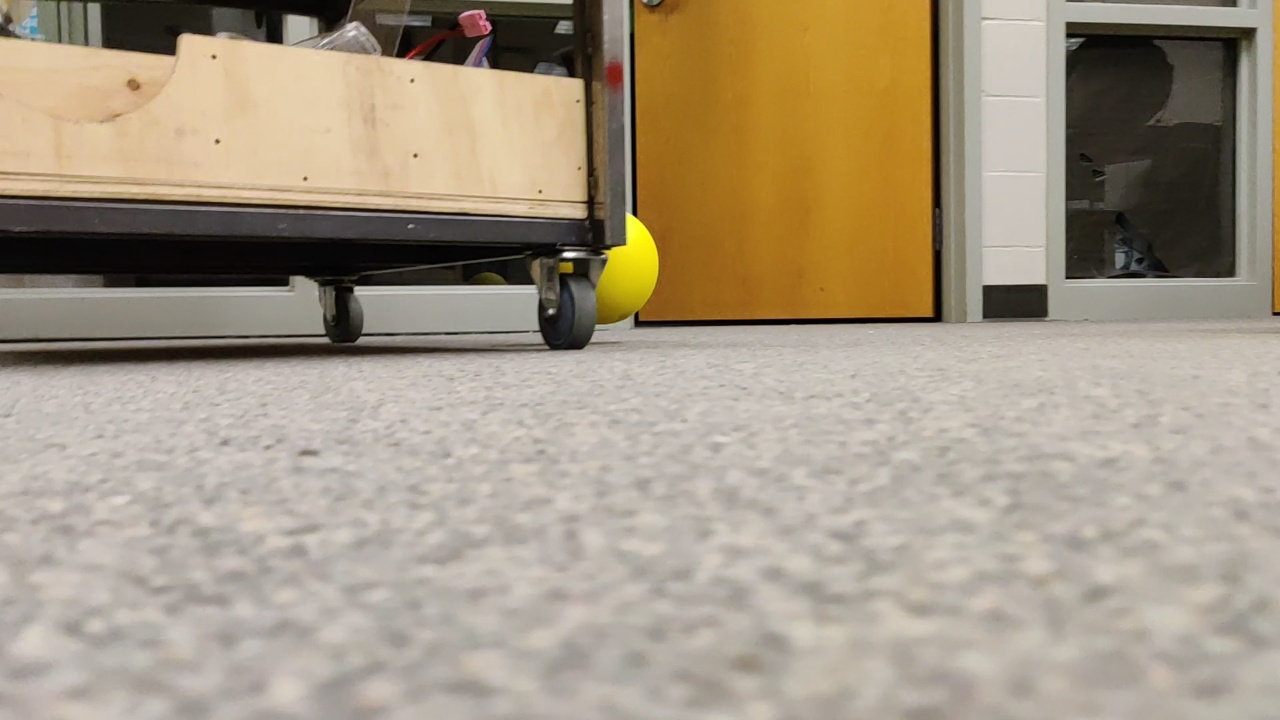Ball: (595, 206, 657, 322)
